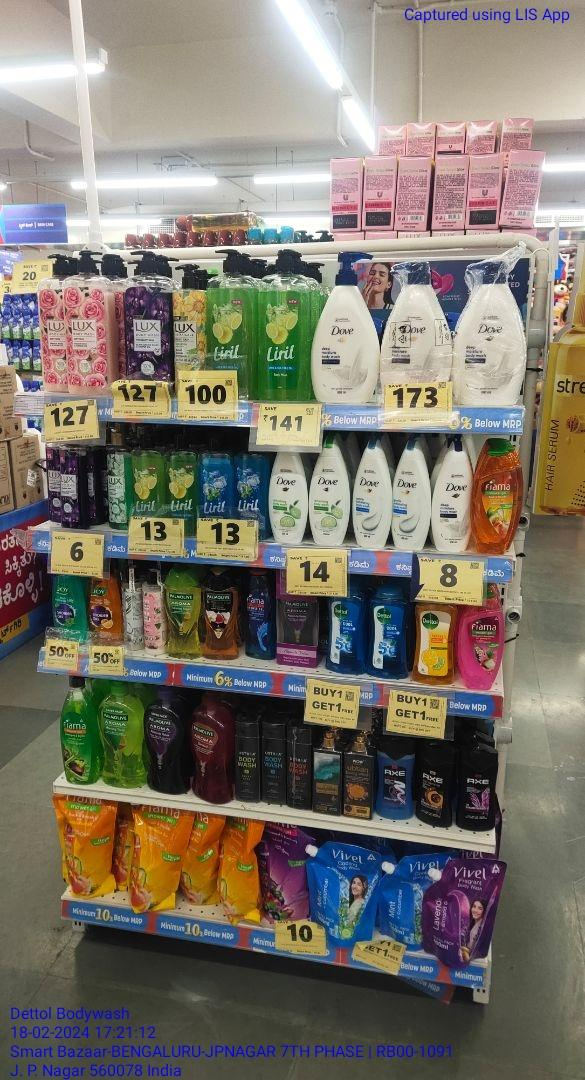Dettol_Bodywash_Cool: (366, 586, 408, 680), (328, 587, 364, 675)
Dettol_Bodywash_Refresh: (414, 599, 457, 686)
Dove_Deep_Moisture_Body_Wash_250ML: (434, 435, 473, 554)
Dove_Gentle_Exfoliating_Body_Wash_250ML: (353, 437, 392, 551), (394, 439, 432, 550)
Dove_Refreshing_Body_Wash_250ML: (309, 441, 350, 546), (269, 451, 308, 544)
Fiama_Shower_Gel_Peach_and_Avocado_250ML: (473, 430, 521, 557)
Joy_Shower_Gel_Mandarin_and_Lemongrass_250ML: (90, 575, 123, 645)
Joy_Shower_Gel_Mint_and_Eucalyptus_250ML: (53, 573, 88, 641)
Liril_Cooling_Mint_Body_Wash_250ML: (236, 450, 268, 521), (200, 451, 233, 518)
Liril_Lime_and_Tea_Tree_Oil_Body_Wash_250ML: (165, 446, 197, 519), (132, 447, 164, 517)
Lux_Black_Orchid_Scent_and_Juniper_Oil_Body_Wash_245ML: (60, 446, 79, 528)
Lux_Body_Wash_Skin_Detox_Freesia_Scent_and_Alove_Vera_245ML: (106, 442, 130, 528)
Palmolive_Aroma_Morning_Tonic_Shower_Gel_250ML: (164, 564, 202, 660)
Palmolive_Luminous_Oils_With_White_Orchid_Shower_Gel_250ML: (205, 566, 240, 659)
